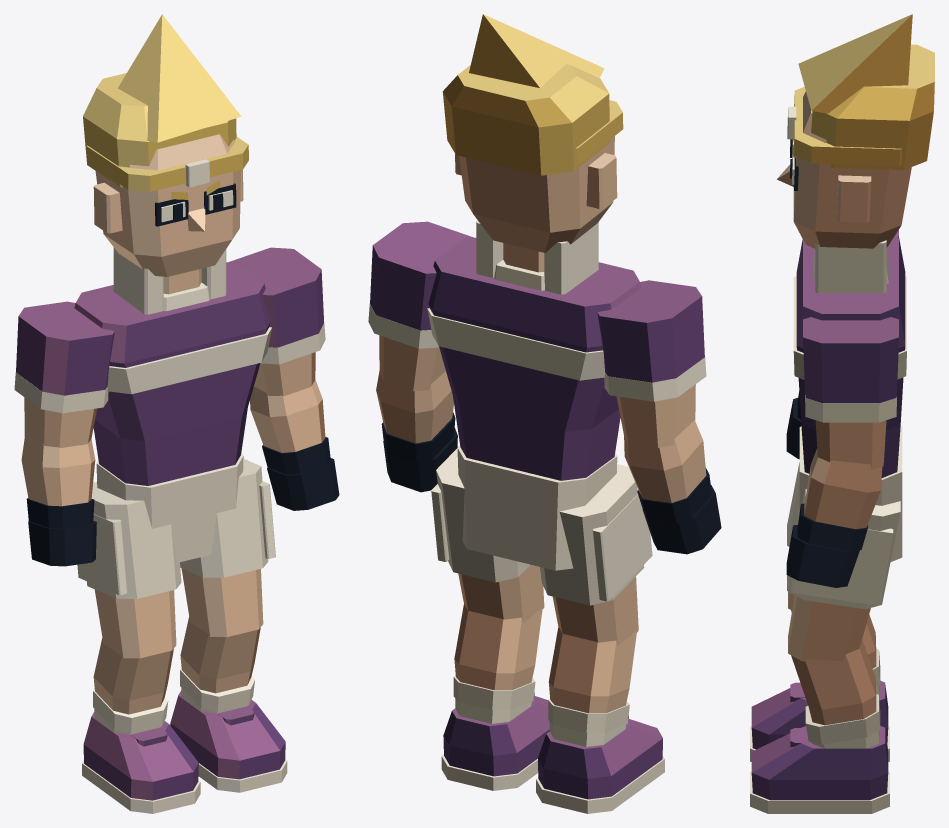
The model's file is kaiz-preview.glb.
The picture shows the model from 3 angles, left to right: view 1: azimuth 30°, elevation 25°; view 2: azimuth 150°, elevation 25°; view 3: azimuth 270°, elevation 25°; orthographic projection. The views are drawn at different scales.
Parts seen in each view (by area): view 1: Jersey, Head, SweptCrest, Sleeve.R, ShortsWaist, Boot.R, Boot.L, HairMass, Sleeve.L, Shorts.R, Shorts.L, ChestBand (+27 smaller); view 2: Jersey, HairMass, ShortsWaist, Head, Sleeve.R, Sleeve.L, Boot.R, Calf.L, Calf.R, Boot.L, Shorts.R, ChestBand (+28 smaller); view 3: HairMass, Sleeve.L, Boot.L, Head, Jersey, SweptCrest, Calf.L, Forearm.L, Thigh.L, RaisedCollar.L, ShortsStripe.L, UpperArm.L (+15 smaller).
Boxes of the visible parts, x1,y1,x2,y2 form: Jersey: [74, 262, 270, 485]; Head: [95, 134, 241, 276]; SweptCrest: [118, 14, 241, 142]; Sleeve.R: [16, 301, 114, 395]; ShortsWaist: [96, 454, 243, 562]; Boot.R: [83, 712, 198, 800]; Boot.L: [170, 690, 285, 779]; HairMass: [83, 73, 236, 187]; Sleeve.L: [228, 247, 324, 347]; Shorts.R: [86, 482, 181, 598]; Shorts.L: [180, 459, 268, 577]; ChestBand: [107, 327, 271, 394]; Jersey: [428, 237, 641, 480]; HairMass: [442, 64, 609, 175]; ShortsWaist: [457, 446, 617, 570]; Head: [459, 136, 614, 252]; Sleeve.R: [597, 280, 704, 382]; Sleeve.L: [370, 221, 473, 330]; Boot.R: [538, 718, 662, 799]; Calf.L: [454, 604, 542, 690]; Calf.R: [548, 627, 636, 713]; Boot.L: [443, 695, 549, 776]; Shorts.R: [540, 464, 644, 605]; ChestBand: [427, 308, 604, 380]; HairMass: [811, 44, 934, 170]; Sleeve.L: [803, 317, 898, 403]; Boot.L: [751, 726, 888, 800]; Head: [793, 91, 911, 248]; Jersey: [796, 236, 905, 477]; SweptCrest: [798, 14, 912, 113]; Calf.L: [791, 639, 876, 725]; Forearm.L: [804, 448, 882, 529]; Thigh.L: [788, 595, 870, 661]; RaisedCollar.L: [815, 240, 886, 293]; ShortsStripe.L: [791, 528, 893, 605]; UpperArm.L: [815, 420, 886, 469].
Bounding box in the file's own units: 1.04 × 2.46 × 0.5355.
